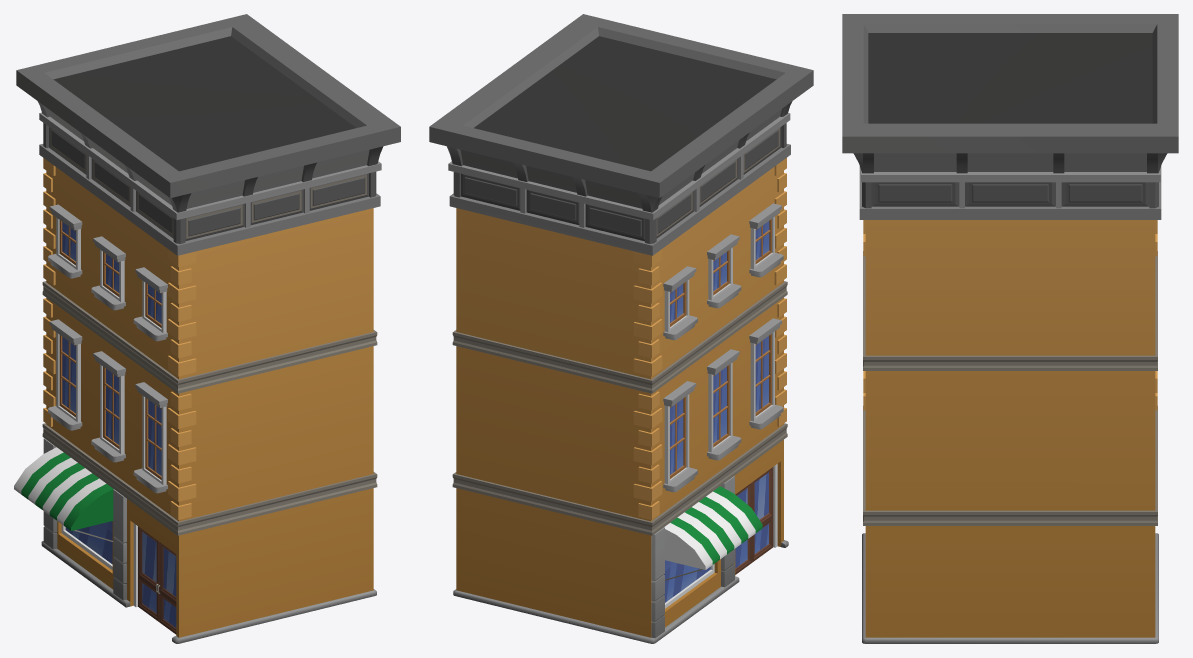
The model's file is Building_8_2_B.glb.
The picture shows the model from 3 angles, left to right: view 1: azimuth 30°, elevation 25°; view 2: azimuth 150°, elevation 25°; view 3: azimuth 270°, elevation 25°; orthographic projection. The views are drawn at different scales.
Parts seen in each view (by area): view 1: Building 8_2_B; view 2: Building 8_2_B; view 3: Building 8_2_B.
Part boxes in pixels (x1,y1,x2,y2): Building 8_2_B: (14,14,400,643); Building 8_2_B: (429,14,813,643); Building 8_2_B: (842,14,1178,643).
Bounding box in the file's own units: 7.2 × 12.76 × 7.55.
3 materials, 3 textured.
